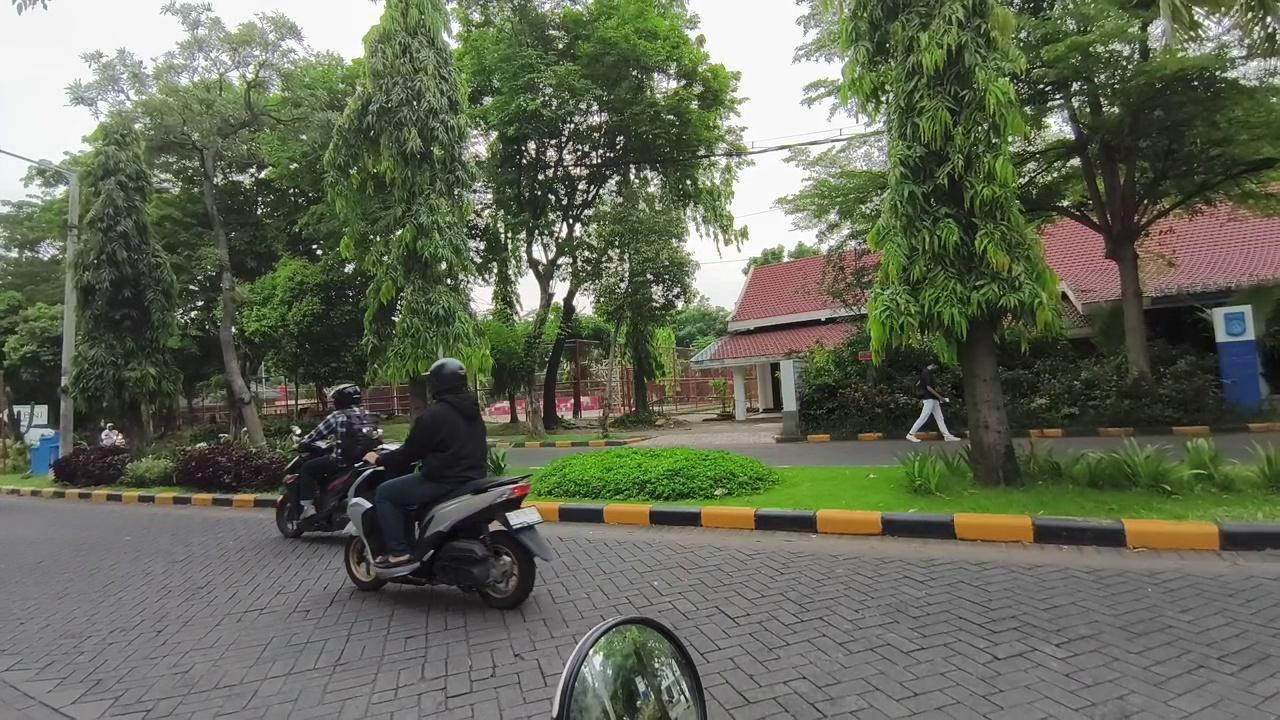Helmet: (365, 358, 487, 567), (299, 384, 370, 518)
Motor: (343, 467, 553, 608), (275, 440, 369, 538)
